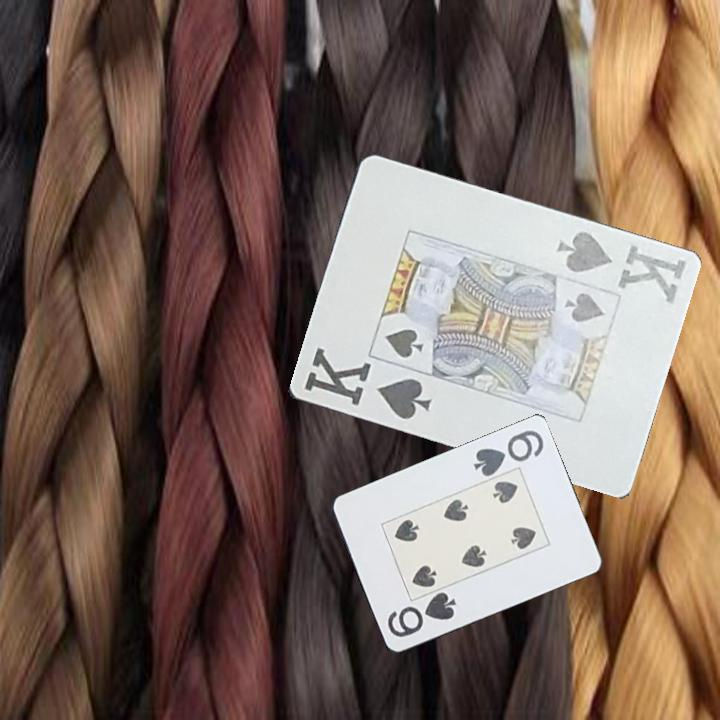6s: (469, 427, 547, 480), (384, 589, 459, 641)
Ks: (553, 227, 689, 307), (299, 344, 434, 423)
